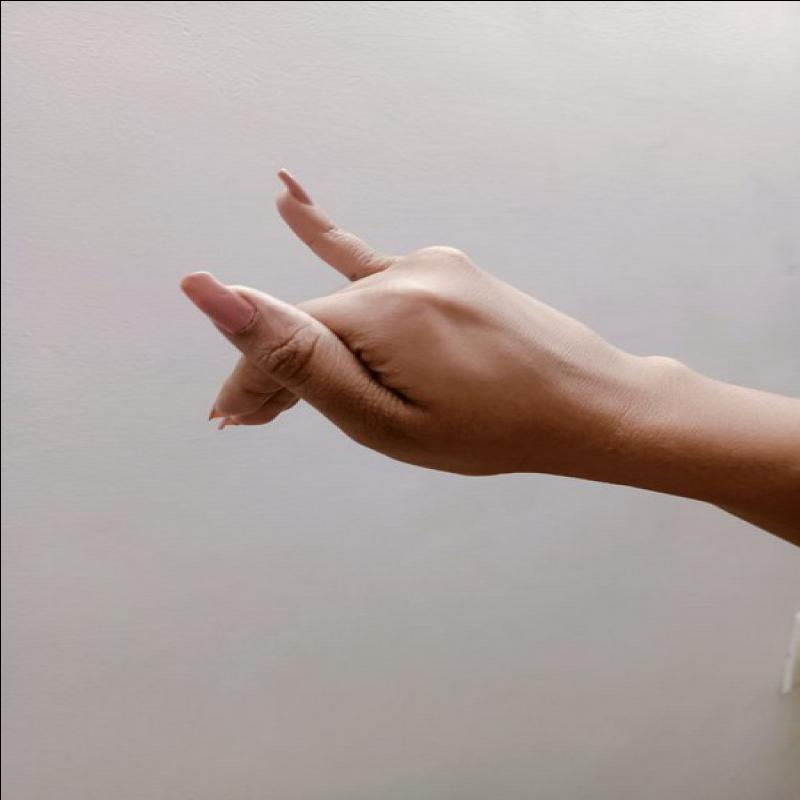Kartharee Mukham: (161, 160, 633, 484)
